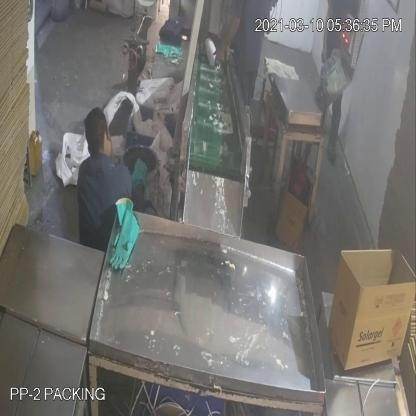no_glove: (206, 14, 245, 70)
